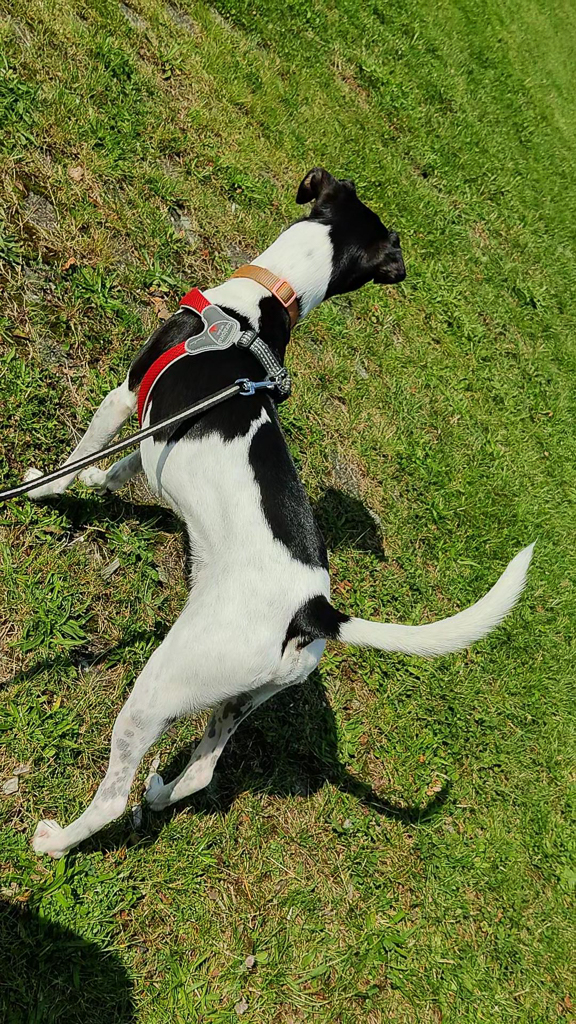Dog: (9, 151, 538, 866)
